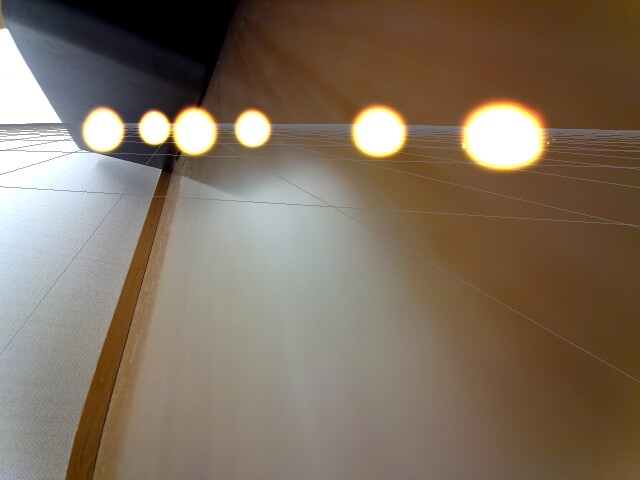firebig: (455, 89, 552, 176)
